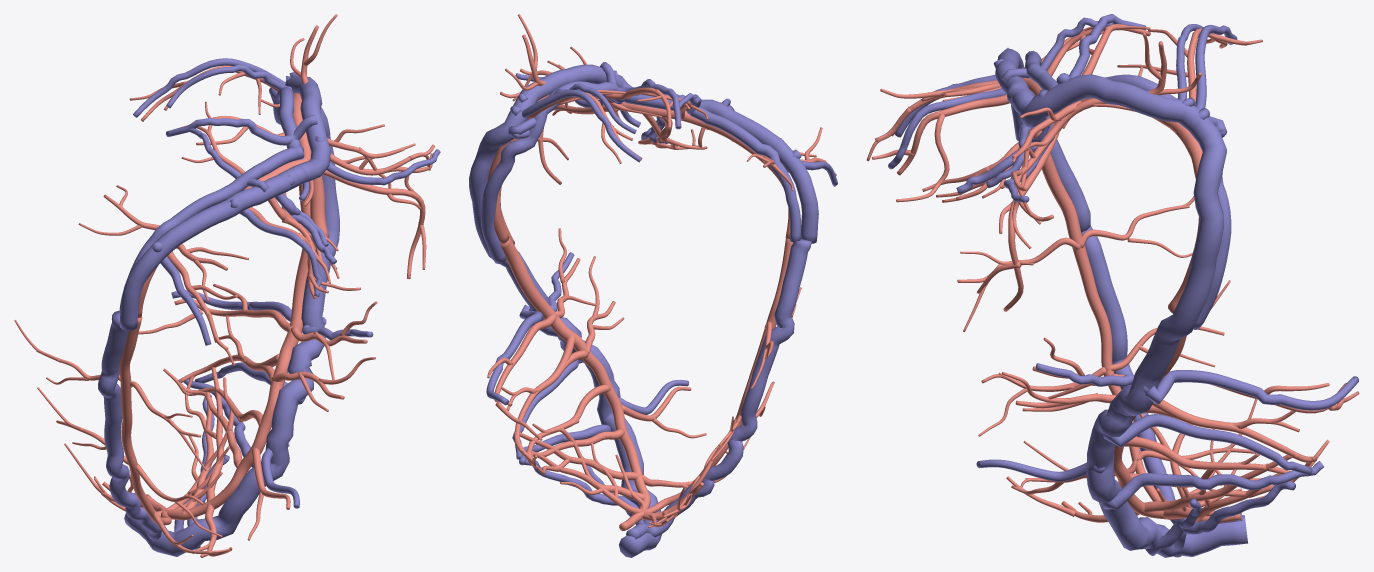
Rendered from vessels_4.glb.
3 renders of one model, left to right at view 1: azimuth 30°, elevation 25°; view 2: azimuth 150°, elevation 25°; view 3: azimuth 270°, elevation 25°, orthographic. The views are drawn at different scales.
Parts seen in each view (by area): view 1: Renderer Node; view 2: Renderer Node; view 3: Renderer Node.
Boxes of the visible parts, left/top/right/bottom form: Renderer Node: left=14, top=14, right=440, bottom=557; Renderer Node: left=469, top=14, right=837, bottom=557; Renderer Node: left=866, top=14, right=1359, bottom=557.
Bounding box in the file's own units: 89.23 × 124 × 90.48.
